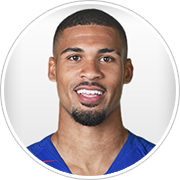smile: (71, 85, 109, 103)
